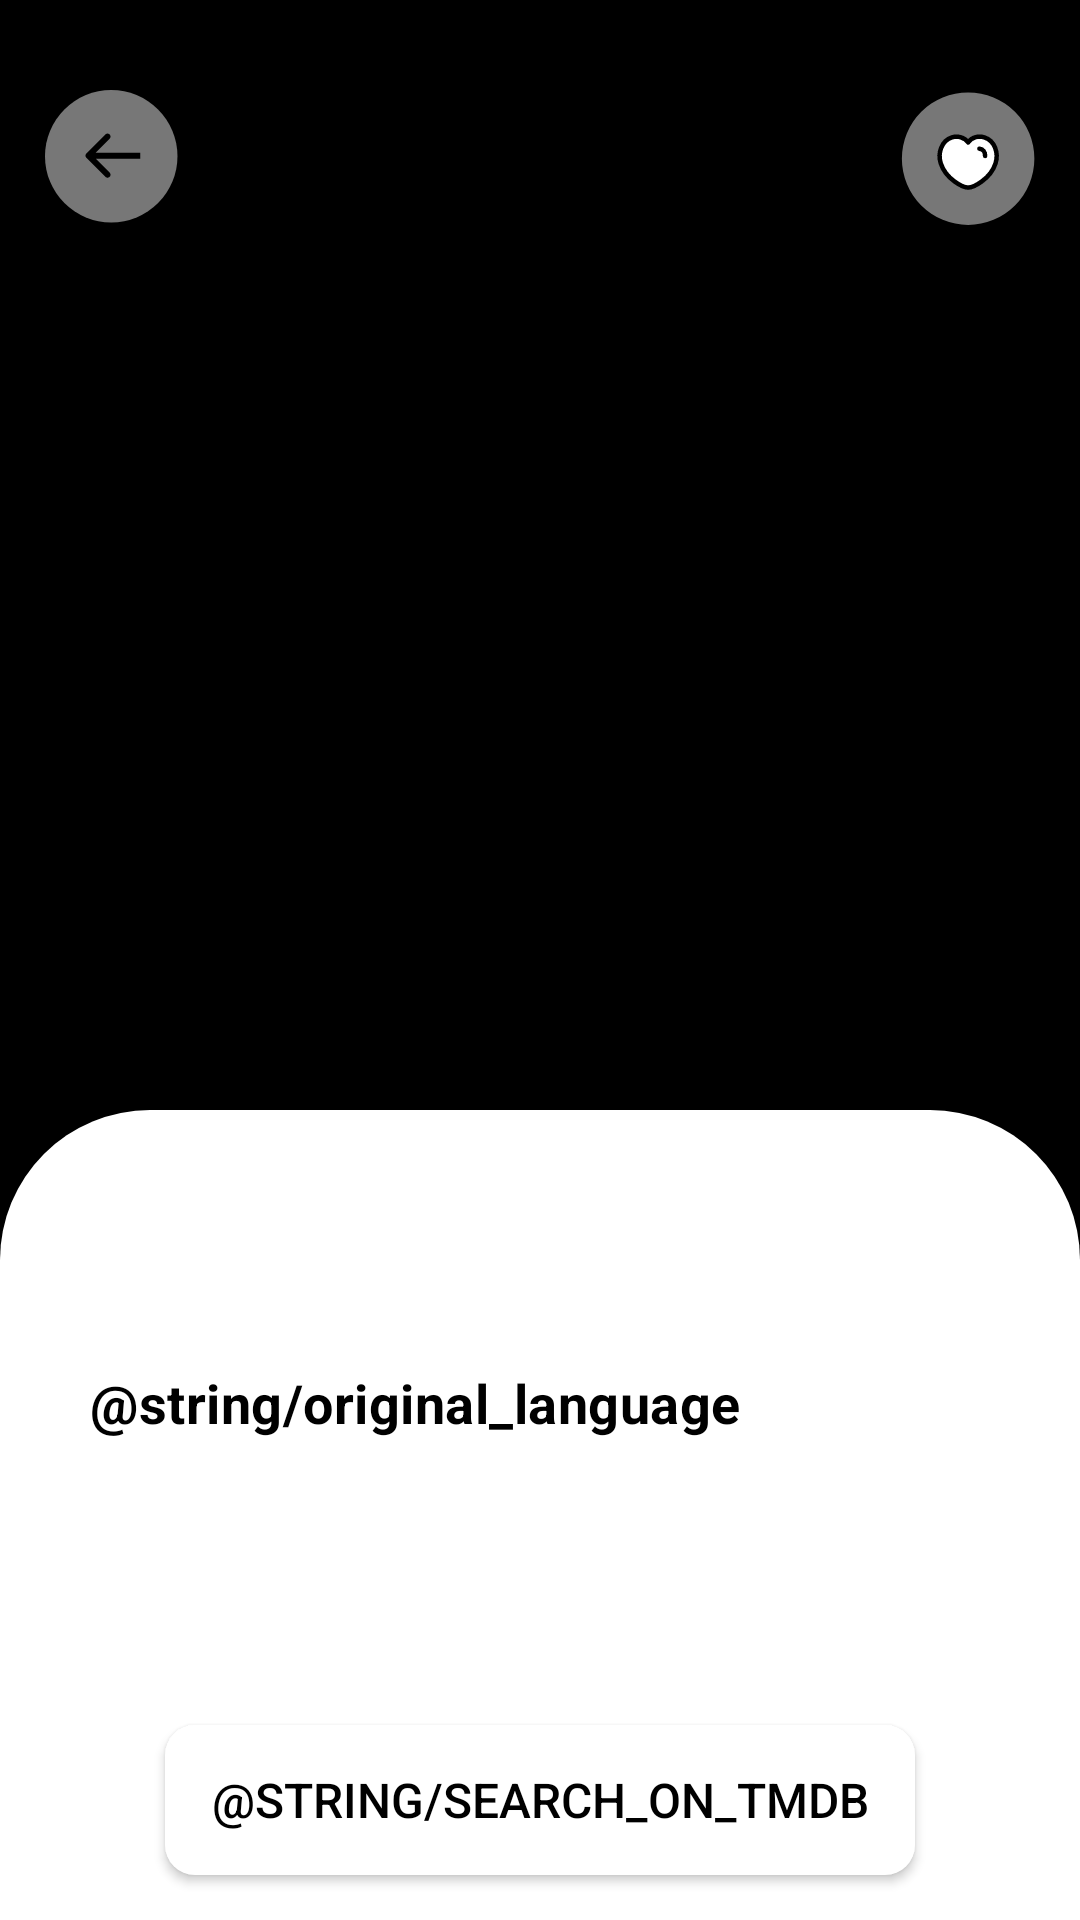

Icon bounding boxes for this 1080w x 1920h phone screenshot, format (x1, y1, x2, y2):
back: (45, 90, 178, 223)
like: (902, 92, 1035, 225)
